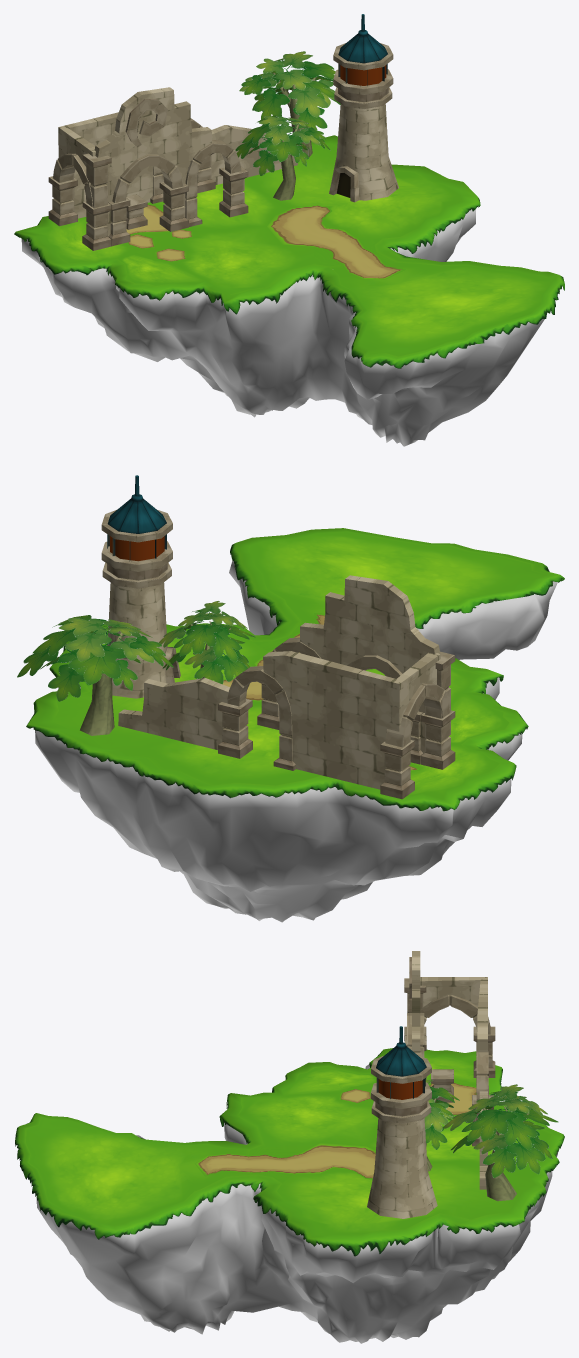
Rendered from Island_Big_1.fbx.
3 renders of one model, top to bottom at view 1: azimuth 30°, elevation 25°; view 2: azimuth 150°, elevation 25°; view 3: azimuth 270°, elevation 25°, orthographic. The views are drawn at different scales.
Visible parts, largest first — view 1: Island_Big_01, Door_Arc.001, Island_Tower.001, Tree_03.002, Tree_03.001, Fire_Pilar.001; view 2: Island_Big_01, Door_Arc.001, Island_Tower.001, Tree_03.002, Tree_03.001; view 3: Island_Big_01, Island_Tower.001, Tree_03.002, Door_Arc.001, Tree_03.001, Fire_Pilar.001.
Part boxes in pixels (bbox=[...]): Island_Big_01: bbox=[14, 135, 564, 446]; Door_Arc.001: bbox=[48, 87, 297, 250]; Island_Tower.001: bbox=[329, 14, 398, 202]; Tree_03.002: bbox=[239, 51, 340, 159]; Tree_03.001: bbox=[235, 115, 330, 200]; Fire_Pilar.001: bbox=[125, 194, 147, 229]; Island_Big_01: bbox=[26, 528, 564, 922]; Door_Arc.001: bbox=[118, 575, 455, 799]; Island_Tower.001: bbox=[101, 475, 180, 698]; Tree_03.002: bbox=[17, 615, 173, 735]; Tree_03.001: bbox=[159, 601, 255, 684]; Island_Big_01: bbox=[15, 1048, 564, 1343]; Island_Tower.001: bbox=[367, 1026, 437, 1218]; Tree_03.002: bbox=[442, 1084, 558, 1201]; Door_Arc.001: bbox=[404, 951, 495, 1189]; Tree_03.001: bbox=[424, 1078, 459, 1171]; Fire_Pilar.001: bbox=[431, 1069, 453, 1102].
Bounding box in the file's own units: 3374 × 2838 × 3965.
